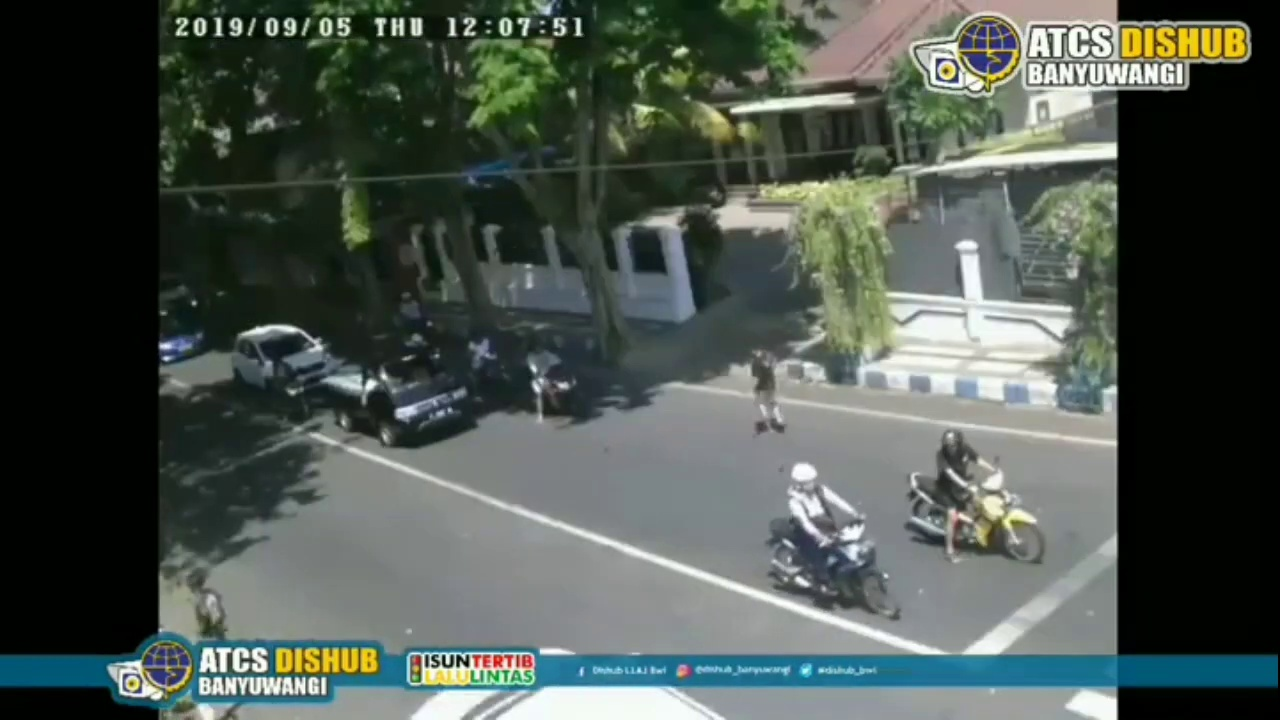car: (327, 329, 472, 450), (233, 318, 332, 392)
motorbike: (773, 465, 898, 621), (912, 427, 1048, 570), (524, 336, 582, 419), (267, 358, 316, 421), (467, 325, 509, 396)
